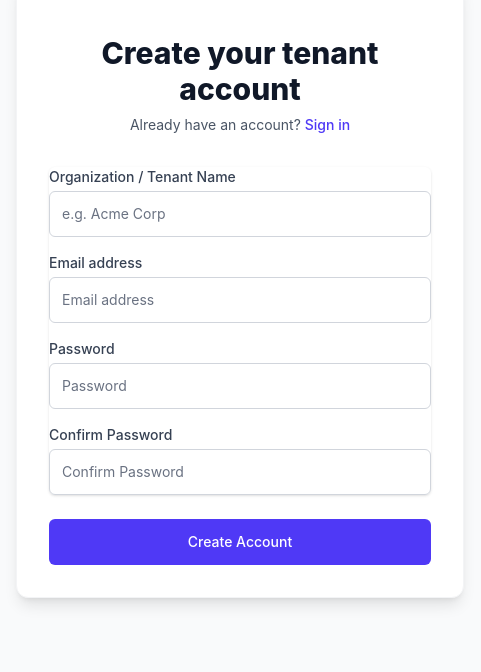
Test: SignupPage integration › should display an error message on registration failure
This screenshot has width=481, height=672.
In the field labelled "Organization / Tenant Name": [240, 214] box [49,191,431,237], type "Test Org"
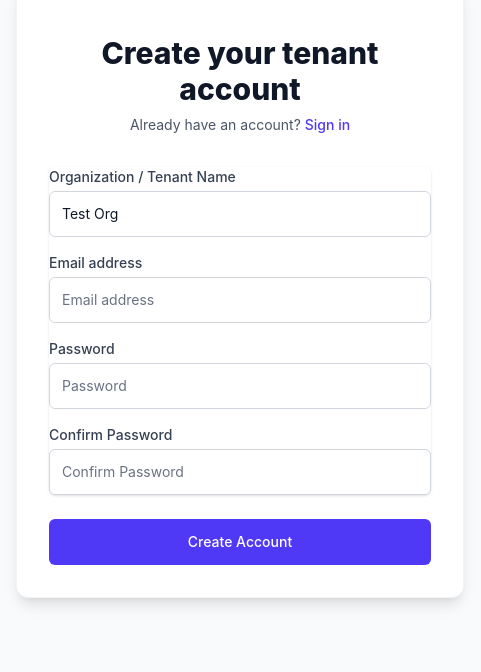
In the field labelled "Email address": [240, 300] box [49,277,431,323], type "existing@example.com"
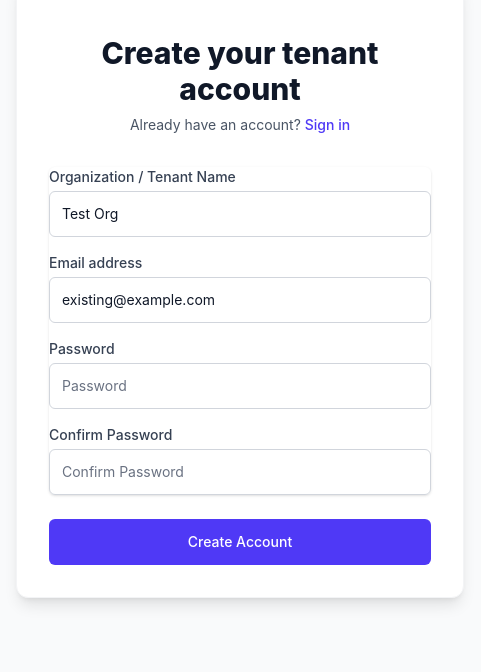
In the password field labelled "Password": [240, 386] box [49,363,431,409], type "password"
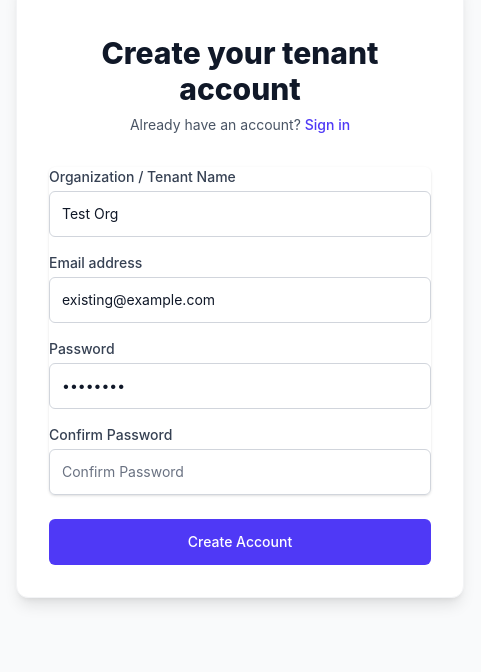
In the password field labelled "Confirm Password": [240, 472] box [49,449,431,495], type "password"
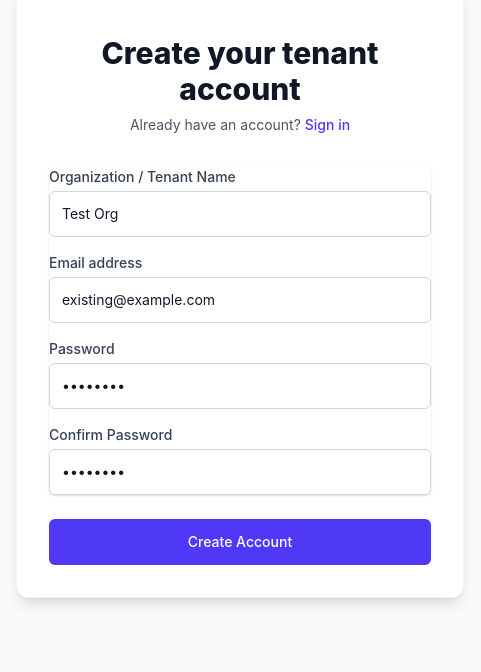
Click the button "Create Account": [240, 542] box [49,519,431,565]
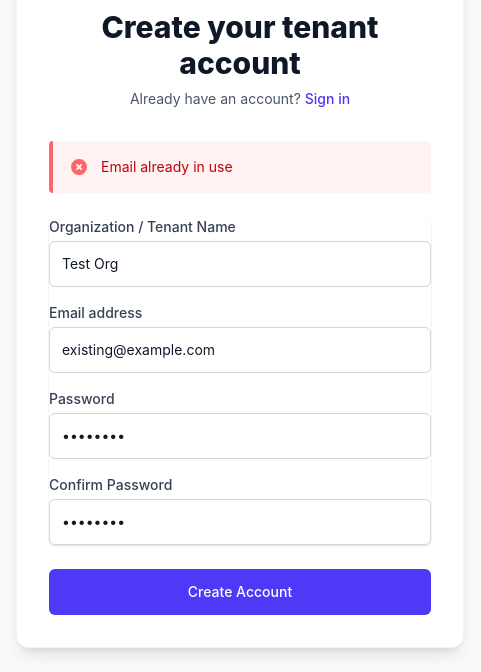
Expected: the text "Email already in use" is shown, [101,157,233,177]
